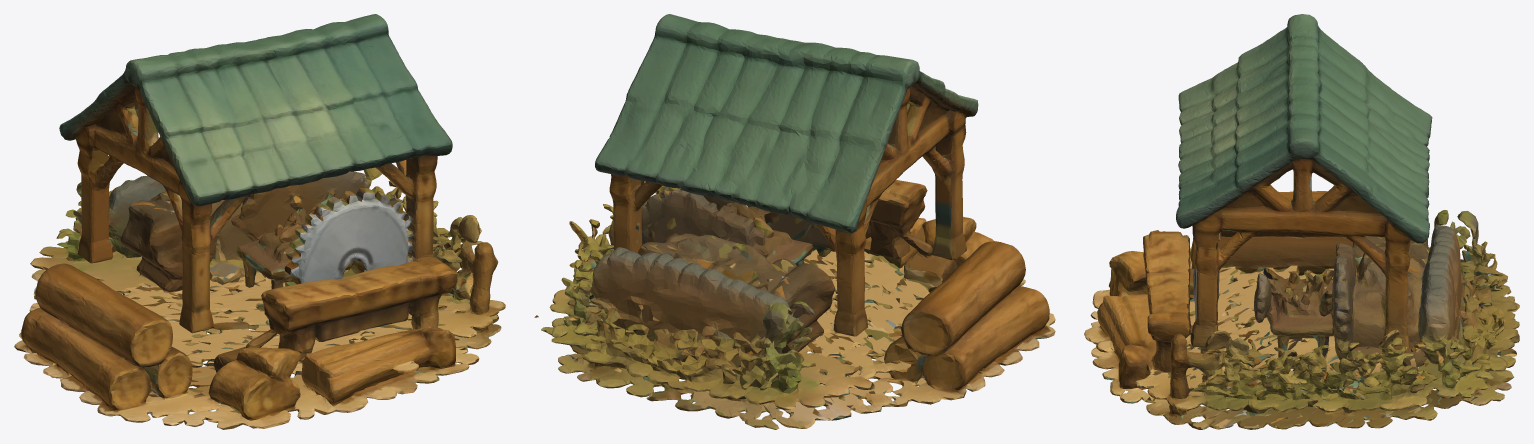
Rendered from wc-sawmill-paint.glb.
3 renders of one model, left to right at view 1: azimuth 30°, elevation 25°; view 2: azimuth 150°, elevation 25°; view 3: azimuth 270°, elevation 25°, orthographic. The views are drawn at different scales.
Parts seen in each view (by area): view 1: geometry_0; view 2: geometry_0; view 3: geometry_0.
Boxes of the visible parts, x1,y1,x2,y2 form: geometry_0: [14, 14, 505, 429]; geometry_0: [534, 14, 1055, 429]; geometry_0: [1084, 14, 1519, 429].
Size of the model in its own units: 1.99 by 1.39 by 1.99.
1 material, 1 textured.
